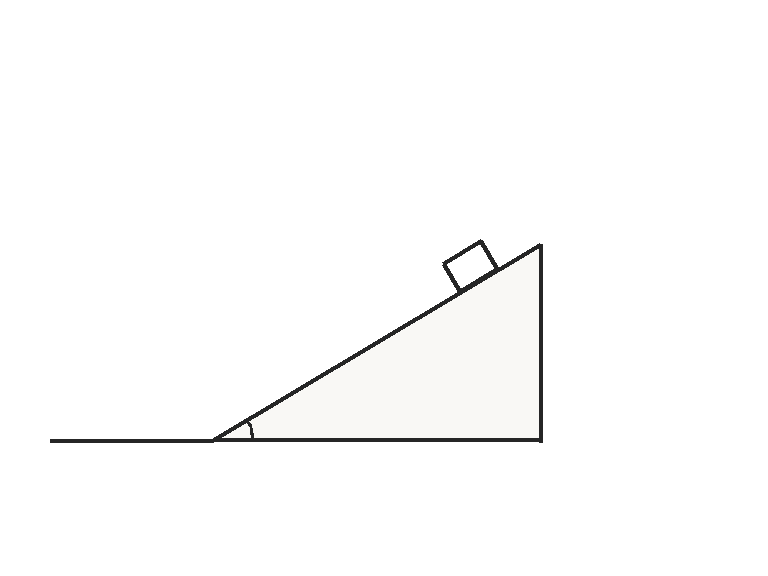block: (441, 239, 500, 293)
ramp: (210, 241, 541, 442)
